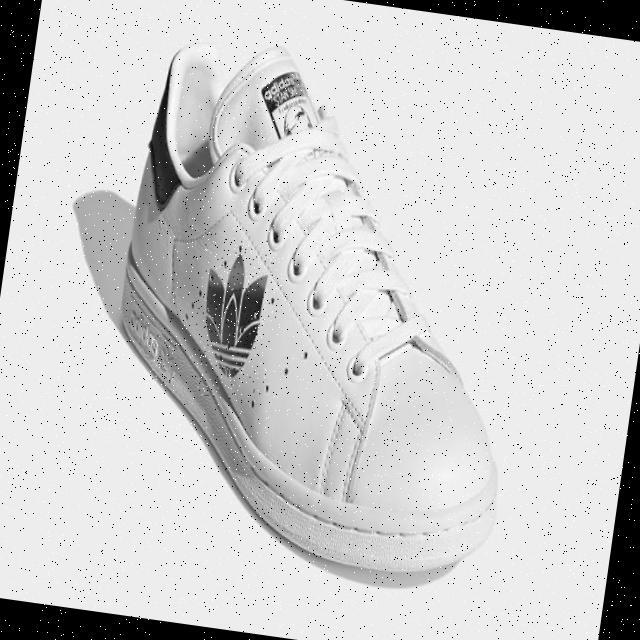Adidas: (185, 233, 288, 405), (150, 336, 180, 385)
